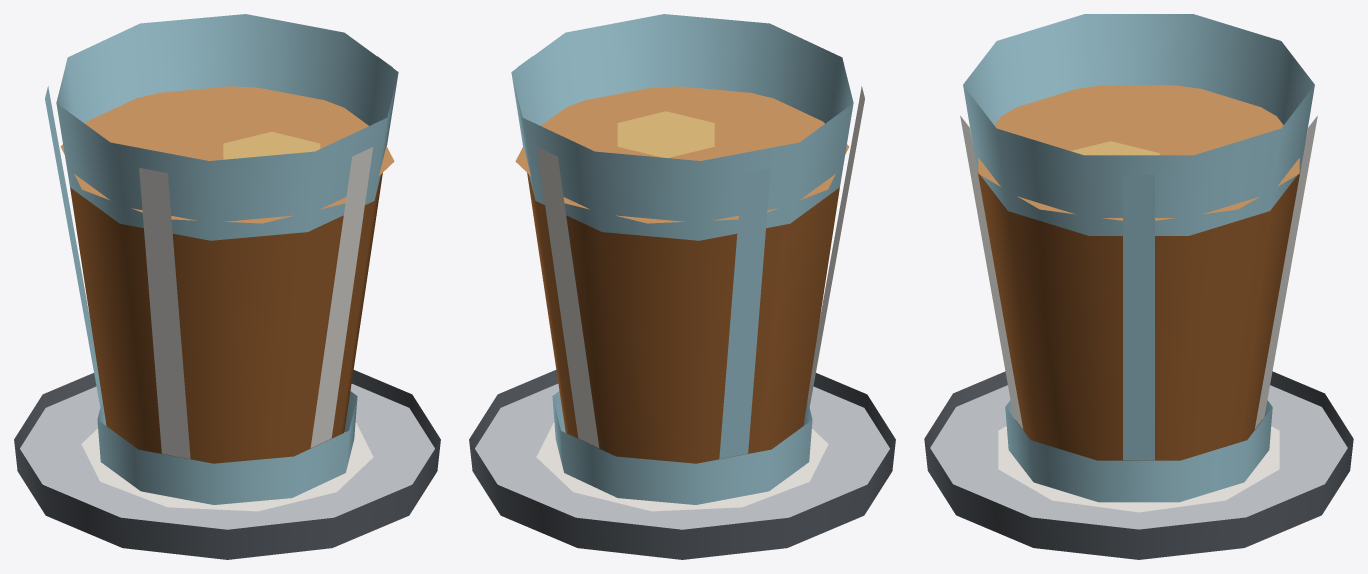
Rendered from pass_plate.glb.
3 renders of one model, left to right at view 1: azimuth 30°, elevation 25°; view 2: azimuth 150°, elevation 25°; view 3: azimuth 270°, elevation 25°, orthographic.
Visible parts, largest first — view 1: pass_plate; view 2: pass_plate; view 3: pass_plate.
Boxes of the visible parts, box(x1,y1,x2,y2) form: pass_plate: box(14, 14, 440, 559); pass_plate: box(469, 14, 895, 559); pass_plate: box(924, 14, 1353, 559).
Bounding box in the file's own units: 0.122 × 0.125 × 0.122.
Materials: 1 (1 with a texture image).
